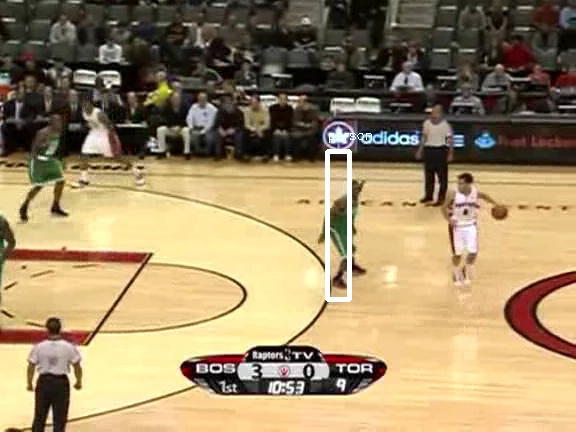person: (328, 189, 362, 270), (327, 189, 361, 270), (329, 189, 363, 270), (328, 188, 362, 269), (328, 190, 362, 271)
target_negative: (60, 281, 461, 321), (156, 54, 305, 129), (457, 27, 548, 135), (120, 315, 373, 342), (277, 160, 288, 410), (480, 286, 513, 334)
